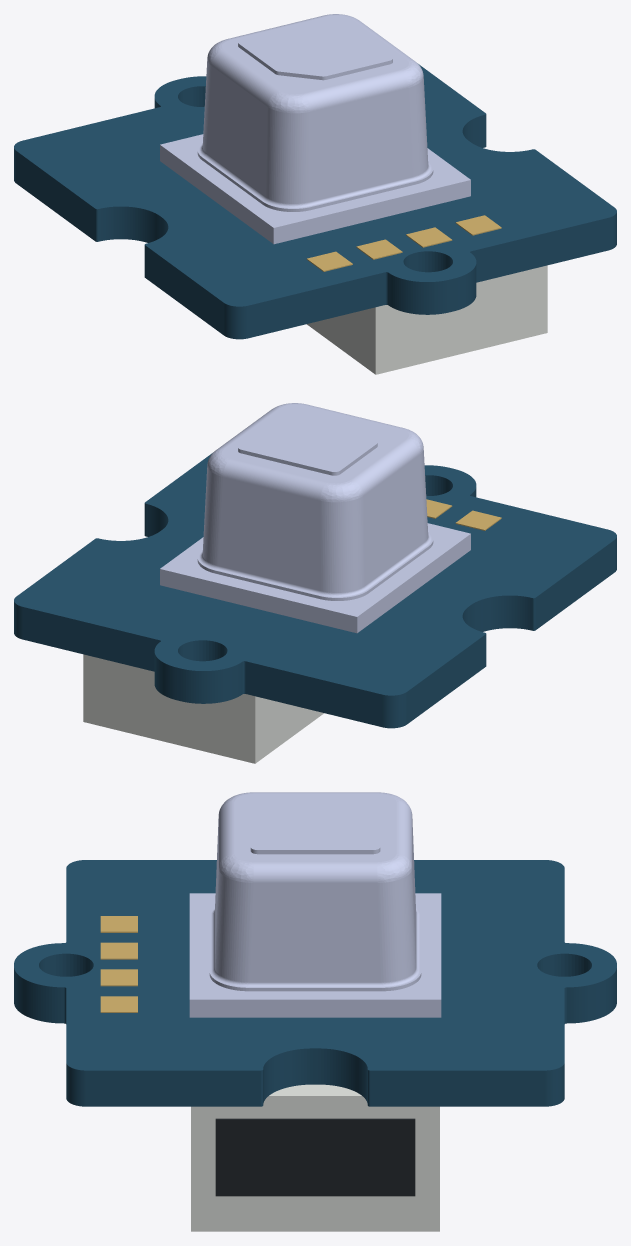
File: grove-scd41.glb
The picture shows the model from 3 angles, top to bottom: view 1: azimuth 30°, elevation 25°; view 2: azimuth 150°, elevation 25°; view 3: azimuth 270°, elevation 25°; orthographic projection. The views are drawn at different scales.
Parts seen in each view (by area): view 1: Seeed v1.01 PCB, Sensirion vendor CAD 0, Grove J1 body, J2 pad, J2 pad.001, J2 pad.002, J2 pad.003; view 2: Seeed v1.01 PCB, Sensirion vendor CAD 0, Grove J1 body, J2 pad; view 3: Seeed v1.01 PCB, Sensirion vendor CAD 0, Grove J1 body, Grove J1 mouth, J2 pad.001, J2 pad.002, J2 pad, J2 pad.003.
Part boxes in pixels (x1=…): Seeed v1.01 PCB: x1=14, y1=64, x2=616, y2=339; Sensirion vendor CAD 0: x1=160, y1=14, x2=470, y2=244; Grove J1 body: x1=307, y1=265, x2=547, y2=374; J2 pad: x1=306, y1=251, x2=352, y2=271; J2 pad.001: x1=356, y1=239, x2=402, y2=259; J2 pad.002: x1=406, y1=227, x2=452, y2=247; J2 pad.003: x1=455, y1=215, x2=501, y2=235; Seeed v1.01 PCB: x1=14, y1=453, x2=616, y2=728; Sensirion vendor CAD 0: x1=160, y1=403, x2=470, y2=633; Grove J1 body: x1=83, y1=654, x2=323, y2=763; J2 pad: x1=455, y1=510, x2=501, y2=530; Seeed v1.01 PCB: x1=14, y1=860, x2=616, y2=1106; Sensirion vendor CAD 0: x1=189, y1=792, x2=441, y2=1017; Grove J1 body: x1=191, y1=1084, x2=439, y2=1231; Grove J1 mouth: x1=215, y1=1118, x2=415, y2=1196; J2 pad.001: x1=100, y1=942, x2=137, y2=959; J2 pad.002: x1=100, y1=969, x2=137, y2=986; J2 pad: x1=100, y1=916, x2=137, y2=932; J2 pad.003: x1=100, y1=996, x2=137, y2=1012.
Size of the model in its own units: 20 by 13.91 by 24.2.
